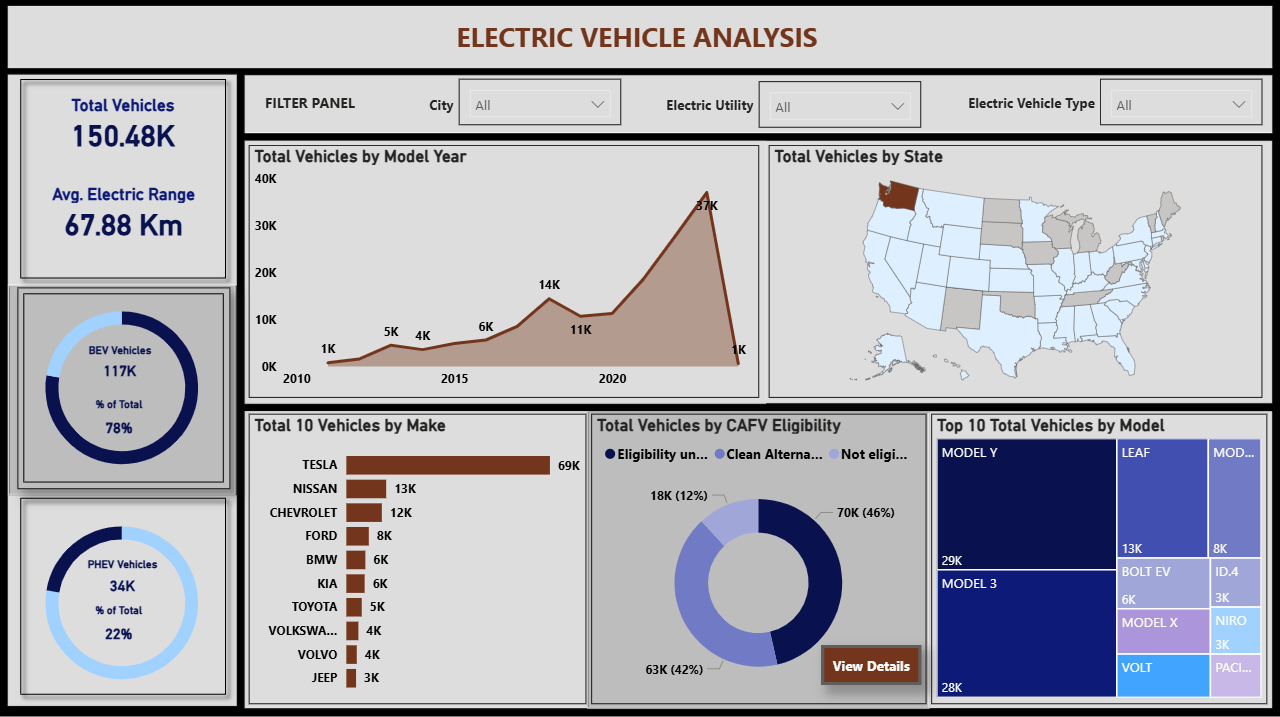

The page's visual inventory and layout, read from the dashboard file:
{"tool":"powerbi","page":{"name":"Main Dashboard","canvas":[1280,720],"ordinal":0},"visuals":[{"type":"card","title":"Total Vehicles","fields":{"Values":["Electric_Vehicle_Population_Data.Total Vehicles"]},"box":[11.1,95.1,223.5,59.3],"z":0},{"type":"card","title":"Avg. Electric Range","fields":{"Values":["Electric_Vehicle_Population_Data.Average Electric Range"]},"box":[17.3,184,212.3,59.3],"z":1000},{"type":"card","title":"% of Total","fields":{"Values":["Electric_Vehicle_Population_Data.% of BEV Vehicles"]},"box":[70,398,98,50],"z":2000},{"type":"card","title":"BEV Vehicles","fields":{"Values":["Electric_Vehicle_Population_Data.Total BEV Vehicles"]},"box":[81.2,343.8,77.5,45],"z":3000},{"type":"card","title":"PHEV Vehicles","fields":{"Values":["Electric_Vehicle_Population_Data.Total PHEV Vehicles"]},"box":[77.5,557.5,90,46.2],"z":4000},{"type":"card","title":"% of Total","fields":{"Values":["Electric_Vehicle_Population_Data.% of PHEV Vehicles"]},"box":[70,603.8,97.5,50],"z":5000},{"type":"slicer","fields":{"Values":["Electric_Vehicle_Population_Data.City"]},"box":[458.8,78.8,162.5,46.2],"z":6000},{"type":"textbox","box":[413.8,91.2,45,32.5],"z":7000},{"type":"slicer","fields":{"Values":["Electric_Vehicle_Population_Data.Electric Utility"]},"box":[758.8,81.2,162.5,46.2],"z":8000},{"type":"slicer","fields":{"Values":["Electric_Vehicle_Population_Data.City","Electric_Vehicle_Population_Data.Electric Vehicle Type"]},"box":[1100,78.8,162.5,46.2],"z":9000},{"type":"textbox","box":[608.8,91.2,150,30],"z":10000},{"type":"donutChart","fields":{"Y":["Electric_Vehicle_Population_Data.Total Vehicles"],"Category":["Electric_Vehicle_Population_Data.Electric Vehicle Type"]},"box":[12,288,219,201],"z":11000},{"type":"textbox","box":[943.8,88.8,156.2,30],"z":12000},{"type":"textbox","box":[260,87.5,127.5,37.5],"z":13000},{"type":"donutChart","fields":{"Y":["Electric_Vehicle_Population_Data.Total Vehicles"],"Category":["Electric_Vehicle_Population_Data.Electric Vehicle Type"]},"box":[13,502,219,201],"z":14000},{"type":"areaChart","title":"Total Vehicles by Model Year","fields":{"Category":["Electric_Vehicle_Population_Data.Model Year"],"Y":["CountNonNull(Electric_Vehicle_Population_Data.VIN (1-10))"]},"box":[249,145,510,253],"z":15000},{"type":"shapeMap","title":"Total Vehicles by State","fields":{"Category":["Electric_Vehicle_Population_Data.State"],"Value":["CountNonNull(Electric_Vehicle_Population_Data.VIN (1-10))"]},"box":[768.8,145,493.8,252.5],"z":16000},{"type":"clusteredBarChart","title":"Total 10 Vehicles by Make","fields":{"Category":["Electric_Vehicle_Population_Data.Make"],"Y":["Electric_Vehicle_Population_Data.Total Vehicles"]},"box":[248.8,413.8,337.5,290],"z":17000},{"type":"textbox","box":[11.2,13.8,1251.2,47.5],"z":18000},{"type":"treemap","title":"Top 10 Total Vehicles by Model","fields":{"Group":["Electric_Vehicle_Population_Data.Model"],"Values":["Electric_Vehicle_Population_Data.Total Vehicles"]},"box":[931.2,413.8,336.2,290],"z":20000},{"type":"shape","box":[17.5,287.5,212.5,201.2],"z":21000},{"type":"shape","box":[11.2,70,223.8,217.5],"z":22000},{"type":"shape","box":[11.2,488.8,223.8,215],"z":23000},{"type":"donutChart","title":"Total Vehicles by CAFV Eligibility","fields":{"Category":["Electric_Vehicle_Population_Data.Clean Alternative Fuel Vehicle (CAFV) Eligibility"],"Y":["Electric_Vehicle_Population_Data.Total Vehicles"]},"box":[591.2,413.8,335,290],"z":26000},{"type":"actionButton","box":[821.2,645,100,40],"z":29000}]}

Visuals, with their boxes in screenshot pixels (x1, y1, x2, y2), scaled from the page's 1280x720 canvas onto the 1280x717 screenshot:
"Total Vehicles" card: x1=11 y1=95 x2=235 y2=154
"Avg. Electric Range" card: x1=17 y1=183 x2=230 y2=242
"% of Total" card: x1=70 y1=396 x2=168 y2=446
"BEV Vehicles" card: x1=81 y1=342 x2=159 y2=387
"PHEV Vehicles" card: x1=78 y1=555 x2=168 y2=601
"% of Total" card: x1=70 y1=601 x2=168 y2=651
slicer - Electric_Vehicle_Population_Data.City: x1=459 y1=78 x2=621 y2=124
textbox: x1=414 y1=91 x2=459 y2=123
slicer - Electric_Vehicle_Population_Data.Electric Utility: x1=759 y1=81 x2=921 y2=127
slicer - Electric_Vehicle_Population_Data.City x Electric_Vehicle_Population_Data.Electric Vehicle Type: x1=1100 y1=78 x2=1262 y2=124
textbox: x1=609 y1=91 x2=759 y2=121
donutChart - Electric_Vehicle_Population_Data.Total Vehicles x Electric_Vehicle_Population_Data.Electric Vehicle Type: x1=12 y1=287 x2=231 y2=487
textbox: x1=944 y1=88 x2=1100 y2=118
textbox: x1=260 y1=87 x2=388 y2=124
donutChart - Electric_Vehicle_Population_Data.Total Vehicles x Electric_Vehicle_Population_Data.Electric Vehicle Type: x1=13 y1=500 x2=232 y2=700
"Total Vehicles by Model Year" areaChart: x1=249 y1=144 x2=759 y2=396
"Total Vehicles by State" shapeMap: x1=769 y1=144 x2=1263 y2=396
"Total 10 Vehicles by Make" clusteredBarChart: x1=249 y1=412 x2=586 y2=701
textbox: x1=11 y1=14 x2=1262 y2=61
"Top 10 Total Vehicles by Model" treemap: x1=931 y1=412 x2=1267 y2=701
shape: x1=18 y1=286 x2=230 y2=487
shape: x1=11 y1=70 x2=235 y2=286
shape: x1=11 y1=487 x2=235 y2=701
"Total Vehicles by CAFV Eligibility" donutChart: x1=591 y1=412 x2=926 y2=701
actionButton: x1=821 y1=642 x2=921 y2=682
